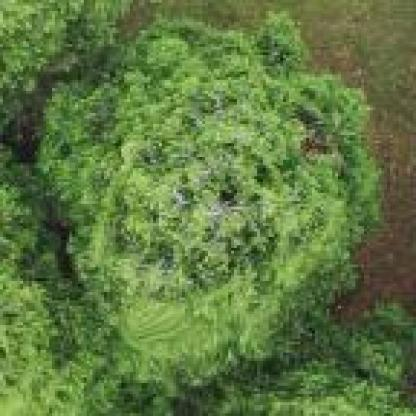Coniferous Tree: (39, 15, 383, 335)
